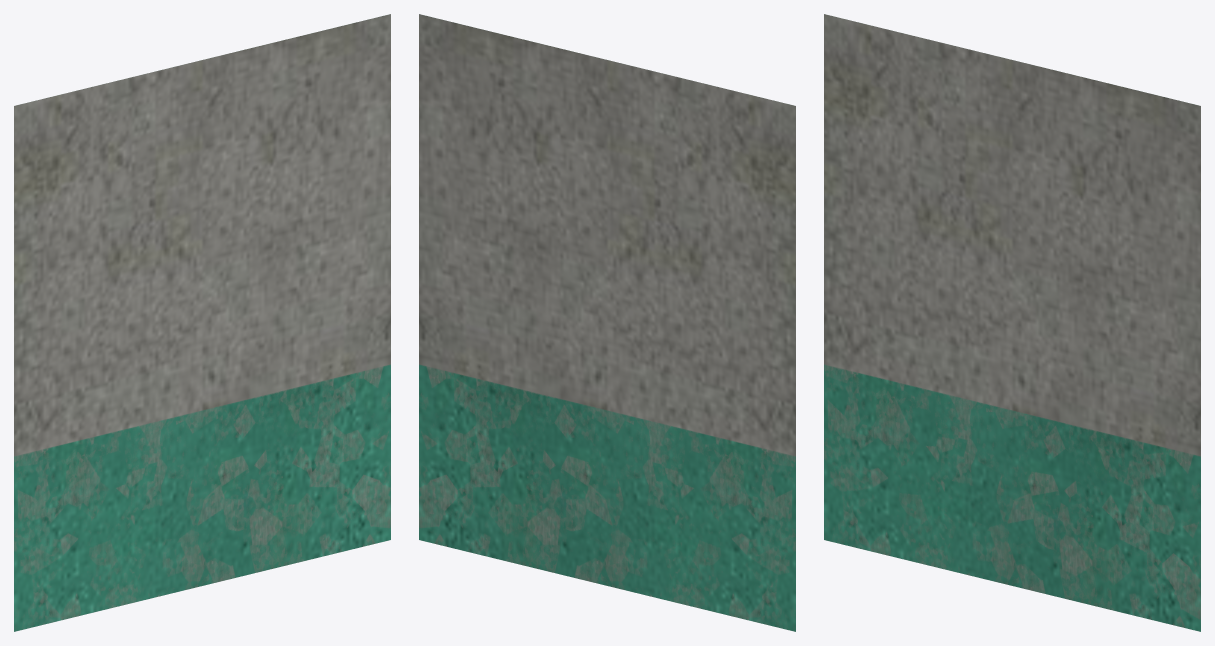
File: wall._3x3_clear.glb
3 views of the same model, side by side, from view 1: azimuth 30°, elevation 25°; view 2: azimuth 150°, elevation 25°; view 3: azimuth 330°, elevation 25° (orthographic).
Parts seen in each view (by area): view 1: Plane; view 2: Plane; view 3: Plane.
Part boxes in pixels (box(x1,y1,x2,y2)): Plane: box(14, 14, 390, 631); Plane: box(419, 14, 795, 631); Plane: box(824, 14, 1200, 631).
Bounding box in the file's own units: 3 × 4 × 8.74e-08.
2 materials, 2 textured.
